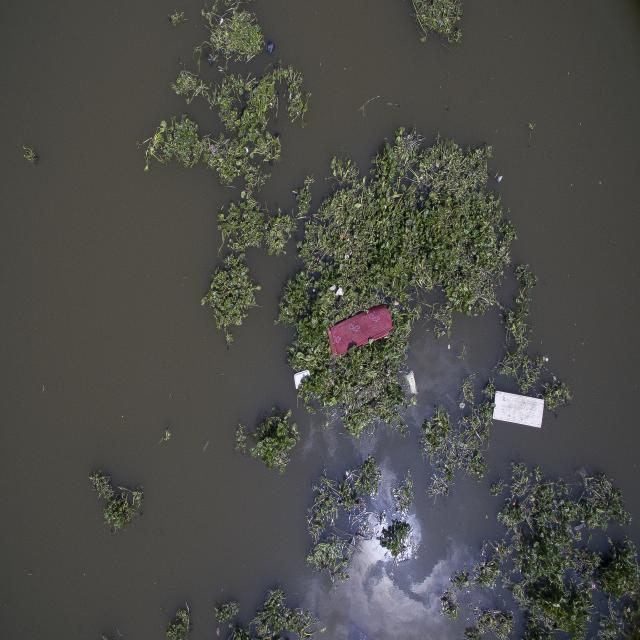Plastic: (492, 392, 544, 428), (294, 369, 310, 388)
